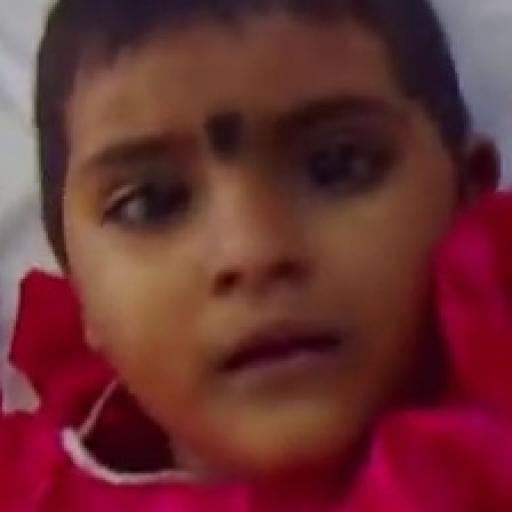Autism: (29, 8, 503, 486)
